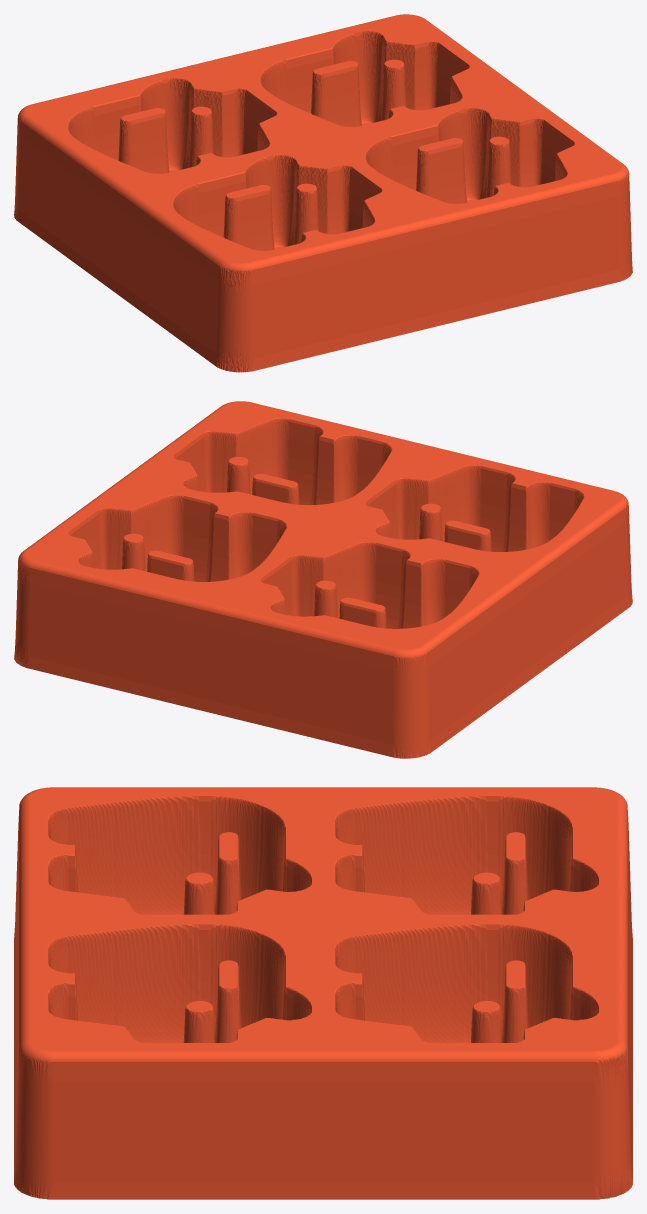
Rendered from mold.glb.
3 views of the same model, one above another, from view 1: azimuth 30°, elevation 25°; view 2: azimuth 150°, elevation 25°; view 3: azimuth 270°, elevation 25° (orthographic). The views are drawn at different scales.
Parts seen in each view (by area): view 1: geometry_0; view 2: geometry_0; view 3: geometry_0.
Part boxes in pixels (x1,y1,x2,y2): geometry_0: (14,14,632,372); geometry_0: (14,401,632,758); geometry_0: (14,787,632,1199).
Size of the model in its own units: 0.1493 by 0.036 by 0.1418.
